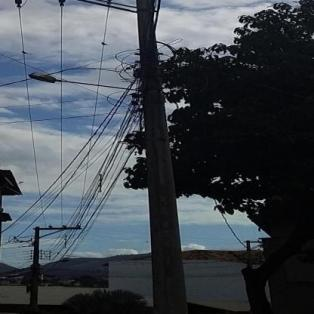Poste: (127, 0, 186, 314)
